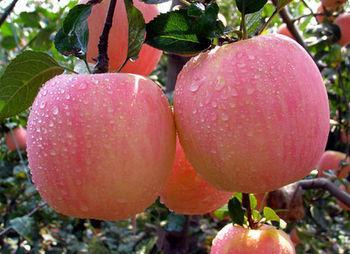apple: (171, 33, 328, 194), (27, 70, 176, 220), (209, 221, 294, 254)
